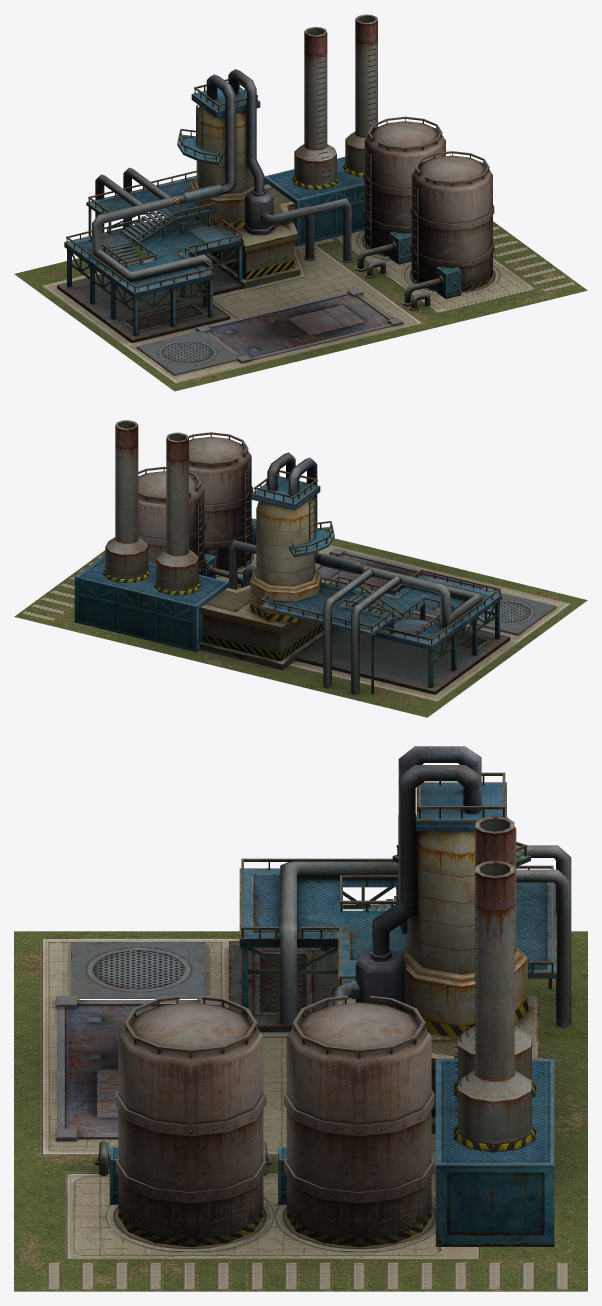
Rendered from Dhz_OilRefinery_03.FBX.
3 views of the same model, one above another, from view 1: azimuth 30°, elevation 25°; view 2: azimuth 150°, elevation 25°; view 3: azimuth 270°, elevation 25° (orthographic). The views are drawn at different scales.
Parts seen in each view (by area): view 1: Dhz_Refinery_03; view 2: Dhz_Refinery_03; view 3: Dhz_Refinery_03.
Boxes of the visible parts, box(x1,y1,x2,y2) form: Dhz_Refinery_03: box(14, 14, 587, 391); Dhz_Refinery_03: box(14, 420, 587, 717); Dhz_Refinery_03: box(14, 746, 587, 1291).
Size of the model in its own units: 184 by 83.26 by 124.
